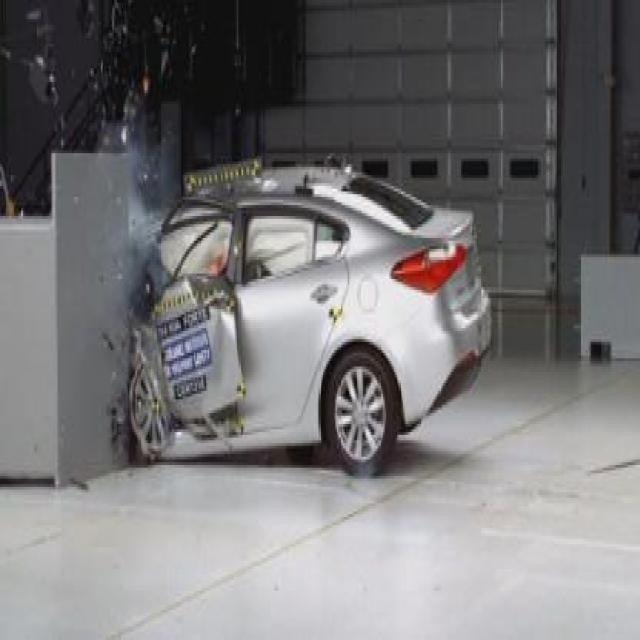accident: (100, 137, 497, 481)
